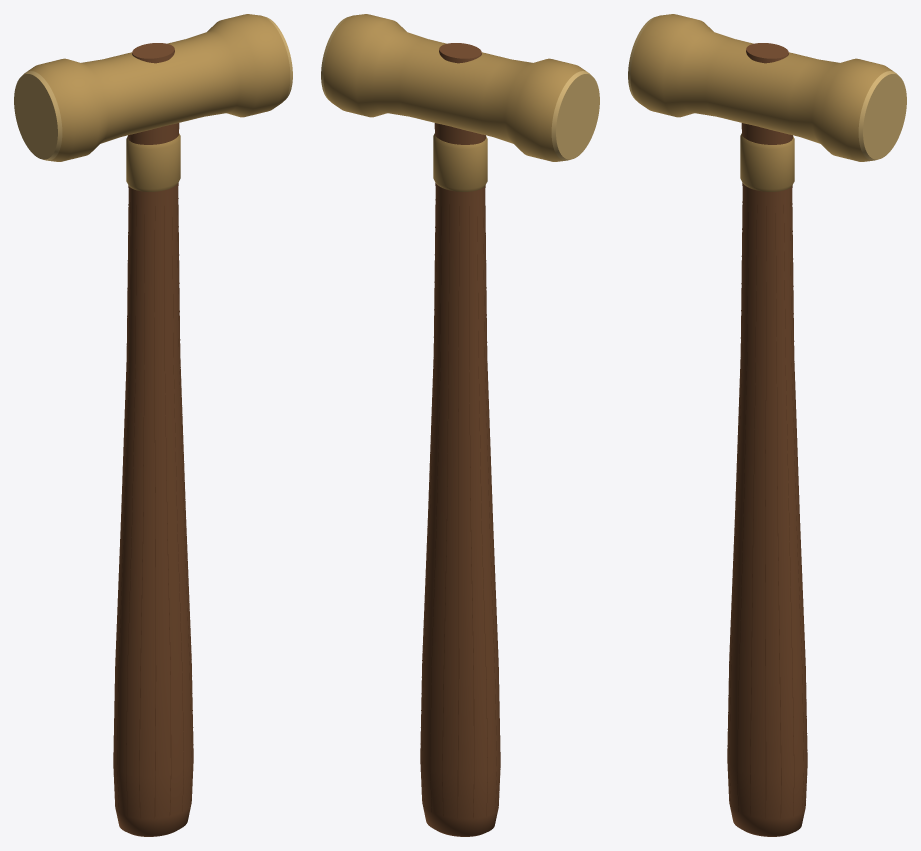
Rendered from JewelerHammer.fbx.
3 views of the same model, side by side, from view 1: azimuth 30°, elevation 25°; view 2: azimuth 150°, elevation 25°; view 3: azimuth 330°, elevation 25° (orthographic).
Visible parts, largest first — view 1: Handle_Walnut, Head_BrassBody, Head_StrikingFace_Left, Handle_BrassFerrule, Handle_ExposedTenon, Handle_Grain_12, Handle_Grain_11, Handle_Grain_10, Handle_Grain_09; view 2: Handle_Walnut, Head_BrassBody, Head_StrikingFace_Left, Handle_BrassFerrule, Handle_ExposedTenon, Handle_Grain_05, Handle_Grain_06, Handle_Grain_04; view 3: Handle_Walnut, Head_BrassBody, Head_StrikingFace_Right, Handle_BrassFerrule, Handle_ExposedTenon, Handle_Grain_13, Handle_Grain_14, Handle_Grain_12, Handle_Grain_15.
Part boxes in pixels (bbox=[...]): Handle_Walnut: bbox=[113, 123, 193, 836]; Head_BrassBody: bbox=[27, 14, 290, 161]; Head_StrikingFace_Left: bbox=[14, 71, 62, 160]; Handle_BrassFerrule: bbox=[126, 133, 180, 191]; Handle_ExposedTenon: bbox=[132, 43, 174, 63]; Handle_Grain_12: bbox=[164, 206, 171, 815]; Handle_Grain_11: bbox=[154, 206, 156, 818]; Handle_Grain_10: bbox=[139, 214, 144, 818]; Handle_Grain_09: bbox=[126, 205, 136, 816]; Handle_Walnut: bbox=[420, 123, 500, 836]; Head_BrassBody: bbox=[323, 14, 586, 161]; Head_StrikingFace_Left: bbox=[551, 71, 599, 160]; Handle_BrassFerrule: bbox=[433, 133, 487, 191]; Handle_ExposedTenon: bbox=[439, 43, 481, 63]; Handle_Grain_05: bbox=[457, 206, 459, 818]; Handle_Grain_06: bbox=[469, 206, 474, 818]; Handle_Grain_04: bbox=[442, 204, 449, 816]; Handle_Walnut: bbox=[727, 123, 807, 836]; Head_BrassBody: bbox=[630, 14, 893, 161]; Head_StrikingFace_Right: bbox=[858, 71, 906, 160]; Handle_BrassFerrule: bbox=[740, 133, 794, 191]; Handle_ExposedTenon: bbox=[746, 43, 788, 63]; Handle_Grain_13: bbox=[765, 206, 766, 818]; Handle_Grain_14: bbox=[775, 213, 781, 818]; Handle_Grain_12: bbox=[750, 205, 757, 815]; Handle_Grain_15: bbox=[783, 205, 794, 816].
Bounding box in the file's own units: 6.8 × 21.65 × 2.5.
